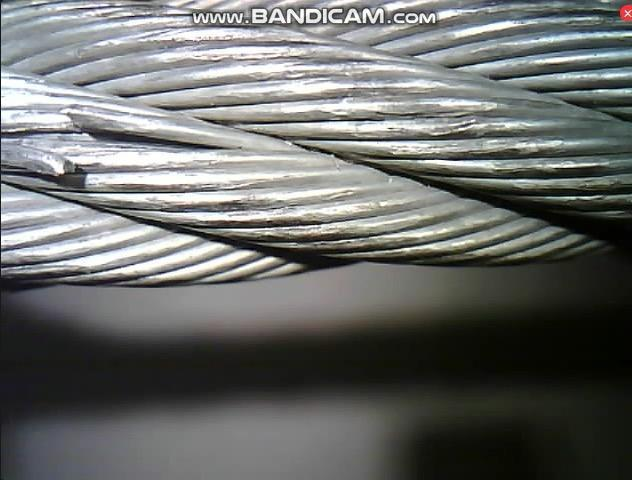break: (22, 91, 102, 191)
